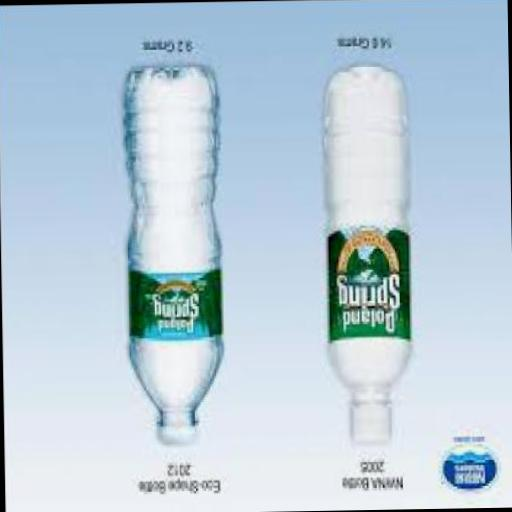plastic: (123, 66, 228, 452), (324, 65, 414, 448), (350, 403, 393, 446), (156, 416, 200, 450)
